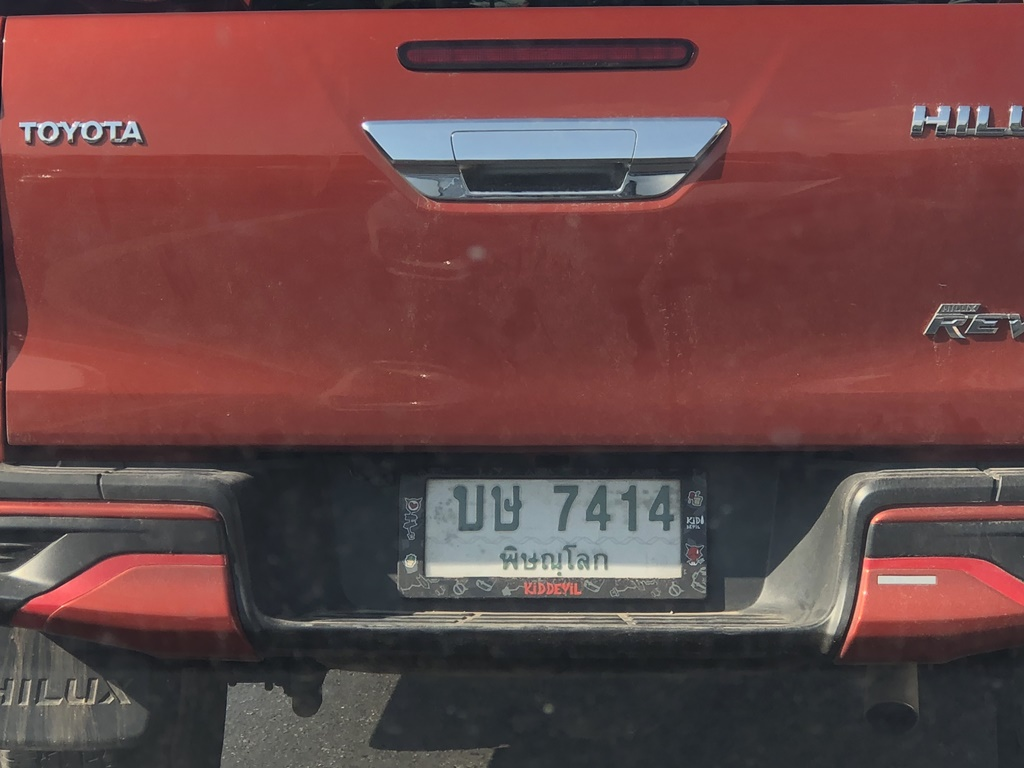four: (581, 474, 615, 539), (643, 476, 673, 539)
plate: (416, 456, 689, 597)
